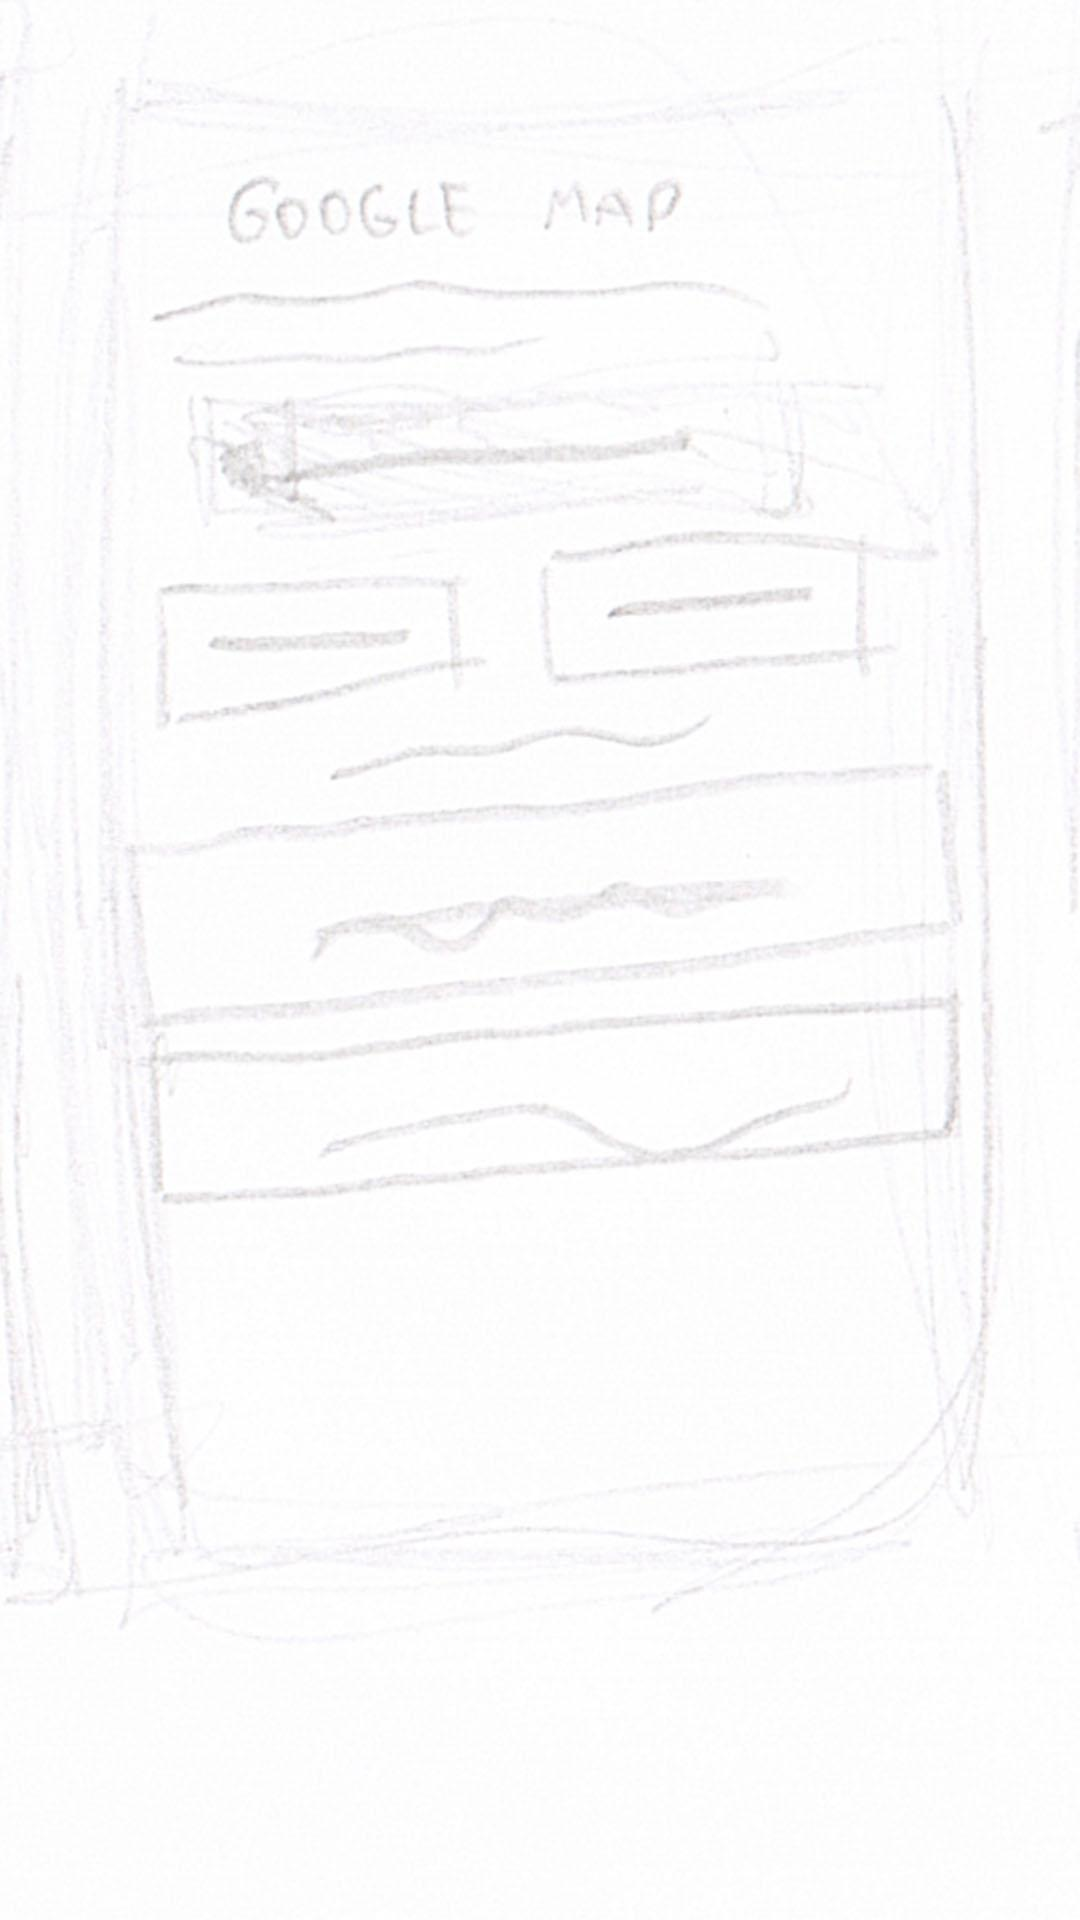Button: (127, 773, 952, 1027), (144, 994, 960, 1207), (203, 382, 810, 529), (539, 535, 866, 682), (154, 578, 463, 720)
Label: (142, 273, 770, 375), (220, 169, 688, 245), (324, 705, 716, 786)
Screen: (91, 96, 988, 1576)
